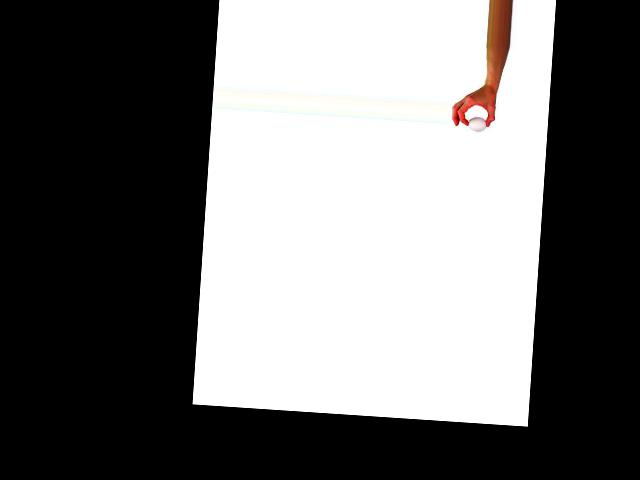egg: (468, 116, 487, 132)
